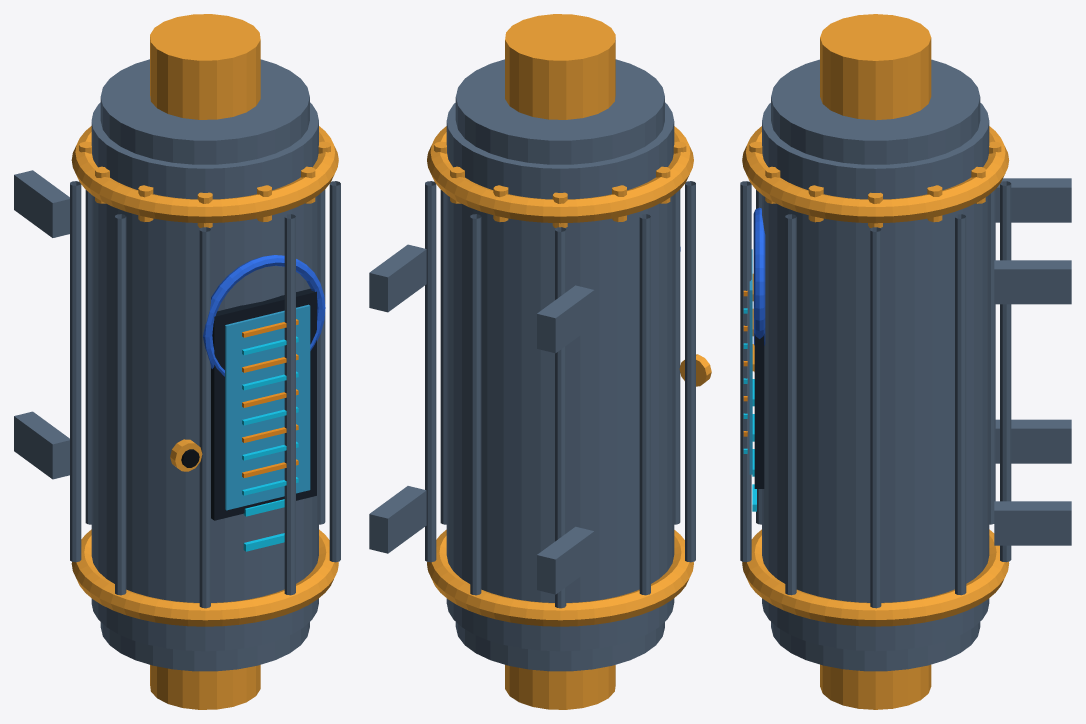
The model's file is 47_L88_CondensateCollectionReservoir.fbx.
The picture shows the model from 3 angles, left to right: view 1: azimuth 30°, elevation 25°; view 2: azimuth 150°, elevation 25°; view 3: azimuth 270°, elevation 25°; orthographic projection.
Parts seen in each view (by area): view 1: L87_CondensateCollectionReservoir_Part_0000, L87_CondensateCollectionReservoir_Part_0001, L87_CondensateCollectionReservoir_Part_0003, L87_CondensateCollectionReservoir_Part_0002, L87_CondensateCollectionReservoir_Part_0006, L87_CondensateCollectionReservoir_Part_0004, L87_CondensateCollectionReservoir_Part_0005, L87_CondensateCollectionReservoir_Part_0007, L87_CondensateCollectionReservoir_Part_0008; view 2: L87_CondensateCollectionReservoir_Part_0000, L87_CondensateCollectionReservoir_Part_0001; view 3: L87_CondensateCollectionReservoir_Part_0000, L87_CondensateCollectionReservoir_Part_0001, L87_CondensateCollectionReservoir_Part_0002, L87_CondensateCollectionReservoir_Part_0006, L87_CondensateCollectionReservoir_Part_0003.
Boxes of the visible parts, x1,y1,x2,y2 form: L87_CondensateCollectionReservoir_Part_0000: (14, 59, 340, 671); L87_CondensateCollectionReservoir_Part_0001: (71, 14, 338, 709); L87_CondensateCollectionReservoir_Part_0003: (225, 304, 310, 510); L87_CondensateCollectionReservoir_Part_0002: (211, 288, 316, 520); L87_CondensateCollectionReservoir_Part_0006: (203, 255, 325, 376); L87_CondensateCollectionReservoir_Part_0004: (242, 336, 298, 495); L87_CondensateCollectionReservoir_Part_0005: (242, 319, 298, 477); L87_CondensateCollectionReservoir_Part_0007: (243, 499, 284, 551); L87_CondensateCollectionReservoir_Part_0008: (170, 439, 202, 471); L87_CondensateCollectionReservoir_Part_0000: (369, 59, 695, 671); L87_CondensateCollectionReservoir_Part_0001: (427, 14, 693, 709); L87_CondensateCollectionReservoir_Part_0000: (740, 59, 1071, 671); L87_CondensateCollectionReservoir_Part_0001: (742, 14, 1009, 709); L87_CondensateCollectionReservoir_Part_0002: (754, 333, 764, 488); L87_CondensateCollectionReservoir_Part_0006: (753, 207, 765, 345); L87_CondensateCollectionReservoir_Part_0003: (749, 249, 752, 474).
Bounding box in the file's own units: 112 × 296 × 137.
